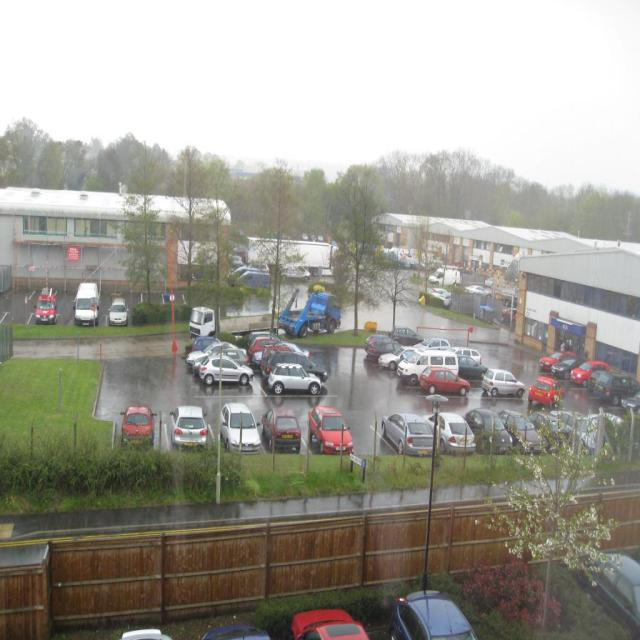car: (106, 297, 125, 321)
